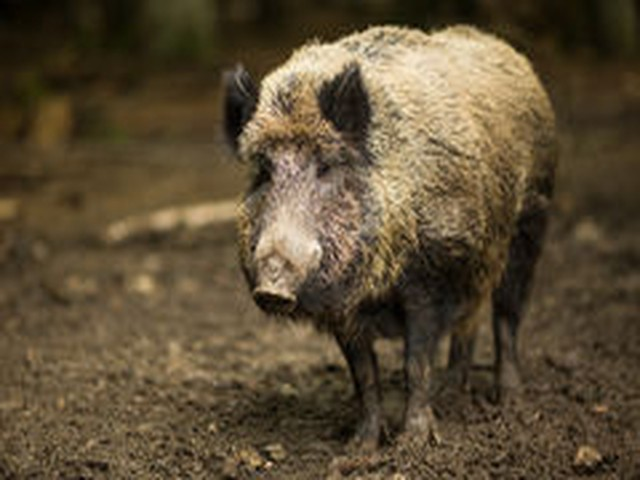Pig: (212, 22, 563, 442)
